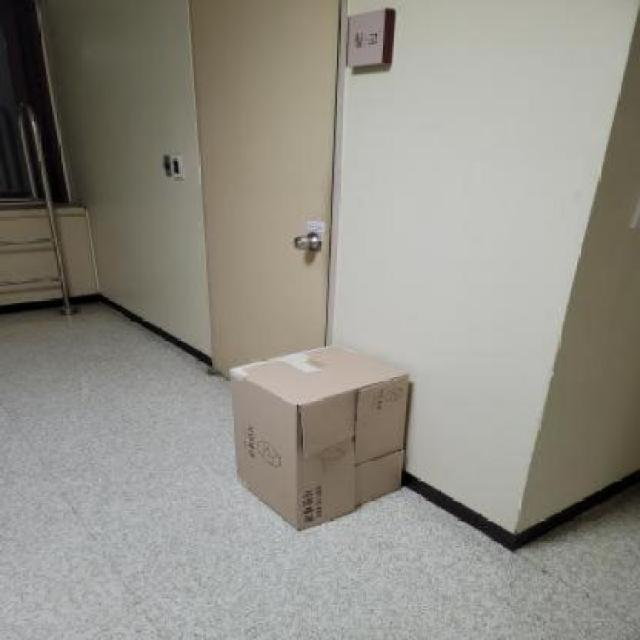box: (215, 334, 419, 534)
